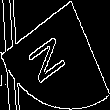N_NE: (32, 25, 78, 85)
